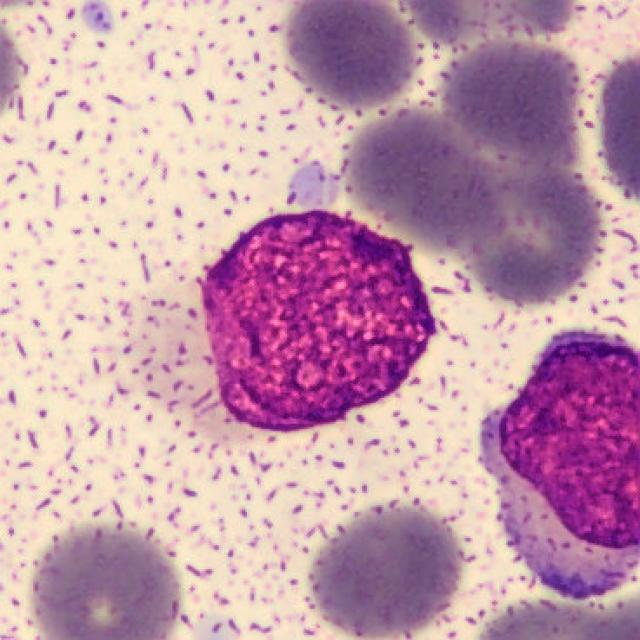Restos celulares: (200, 209, 437, 431)
